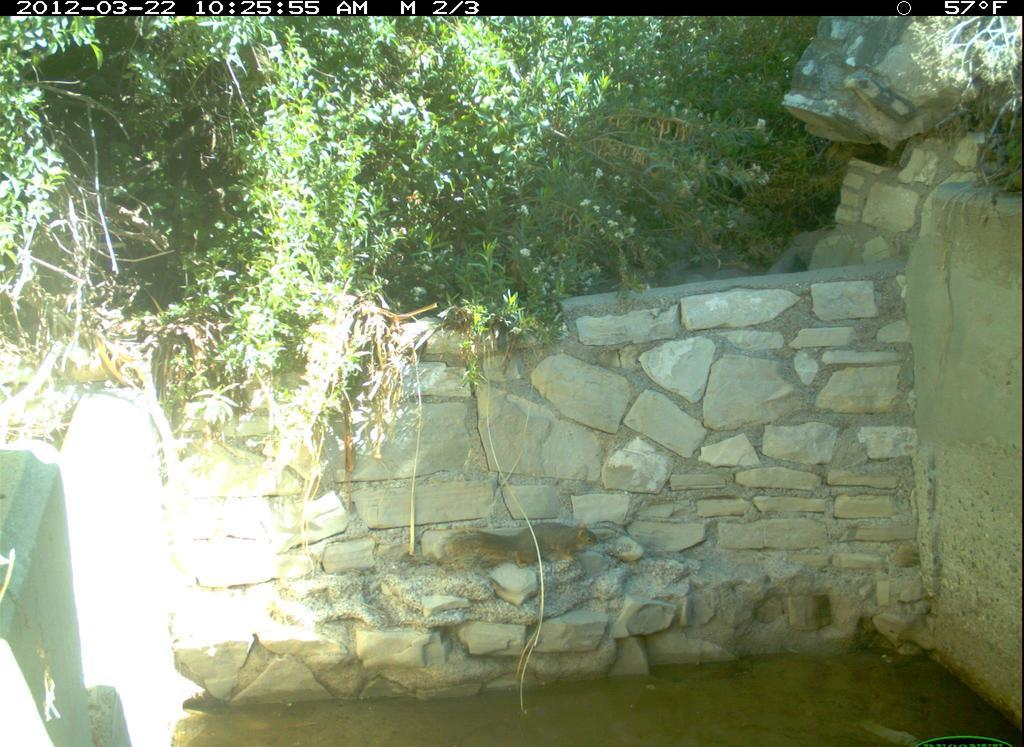squirrel: (435, 516, 606, 573)
